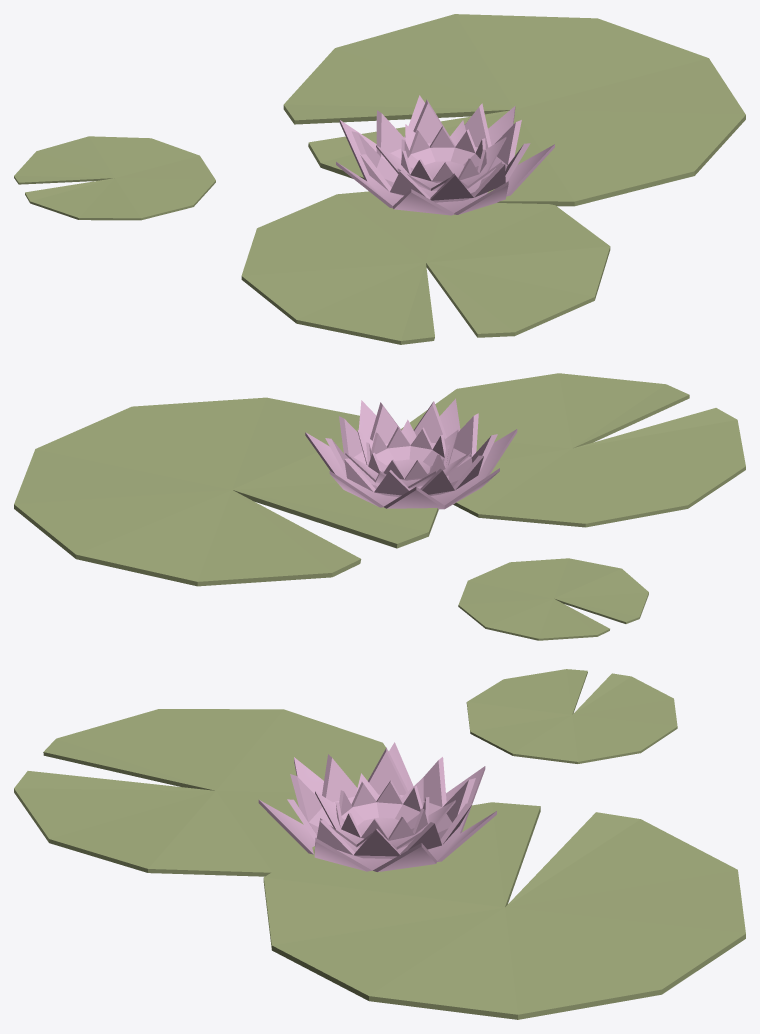
The model's file is ER_Asset_Waterlily01.fbx.
The picture shows the model from 3 angles, top to bottom: view 1: azimuth 30°, elevation 25°; view 2: azimuth 150°, elevation 25°; view 3: azimuth 270°, elevation 25°; orthographic projection. The views are drawn at different scales.
Parts seen in each view (by area): view 1: pCylinder65; view 2: pCylinder65; view 3: pCylinder65.
Part boxes in pixels (<box>): pCylinder65: <box>14,14,745,344</box>; pCylinder65: <box>14,373,745,640</box>; pCylinder65: <box>14,669,745,1019</box>.
Bounding box in the file's own units: 2.21 × 0.1744 × 1.98.
